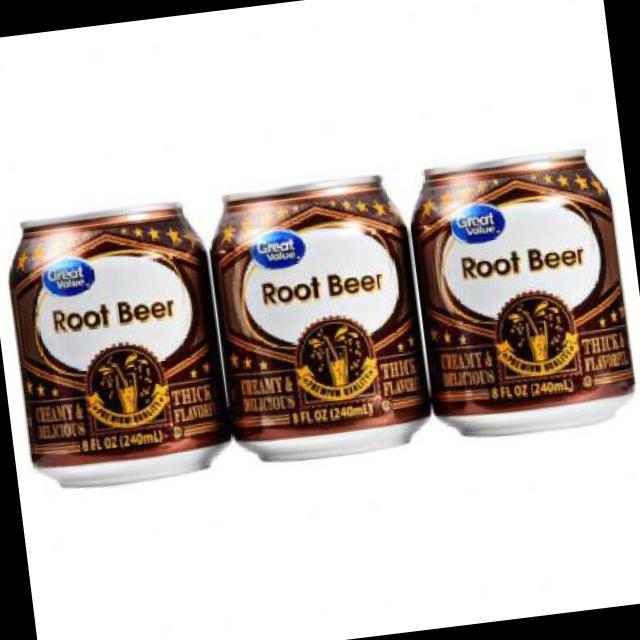Kaleng: (401, 142, 638, 444), (200, 170, 434, 468), (0, 195, 233, 493)
